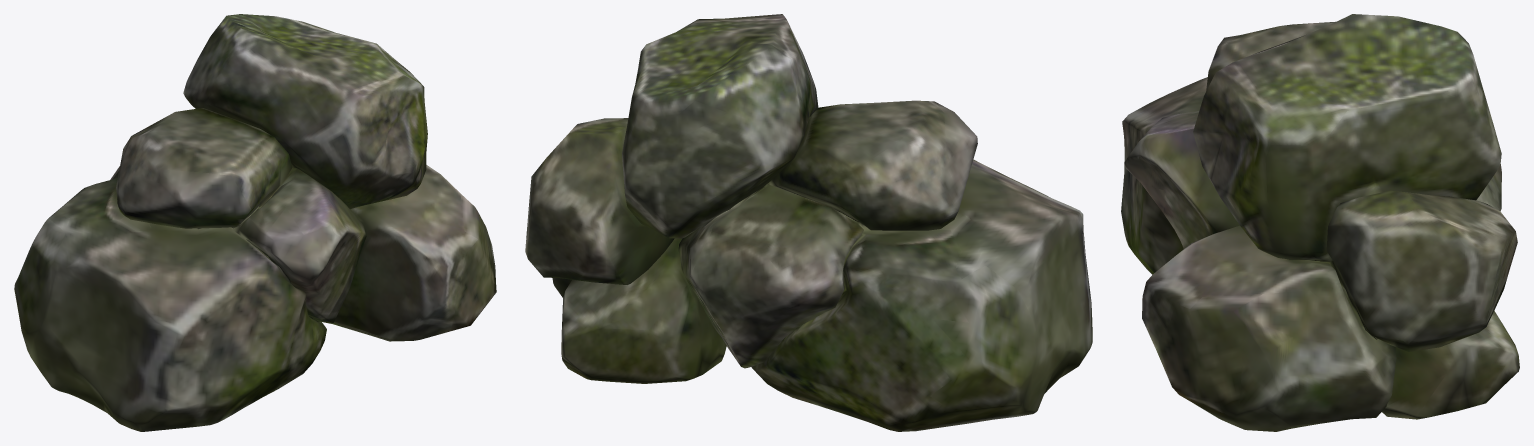
Rendered from Piedras_Apiladas_Medianas.glb.
3 views of the same model, side by side, from view 1: azimuth 30°, elevation 25°; view 2: azimuth 150°, elevation 25°; view 3: azimuth 270°, elevation 25° (orthographic). The views are drawn at different scales.
Parts seen in each view (by area): view 1: Piedras Apiladas Medianas; view 2: Piedras Apiladas Medianas; view 3: Piedras Apiladas Medianas.
Boxes of the visible parts, x1,y1,x2,y2 form: Piedras Apiladas Medianas: (14, 14, 496, 431); Piedras Apiladas Medianas: (525, 14, 1092, 431); Piedras Apiladas Medianas: (1121, 14, 1519, 431).
Size of the model in its own units: 0.1659 by 0.1053 by 0.1152.
1 material, 1 textured.
